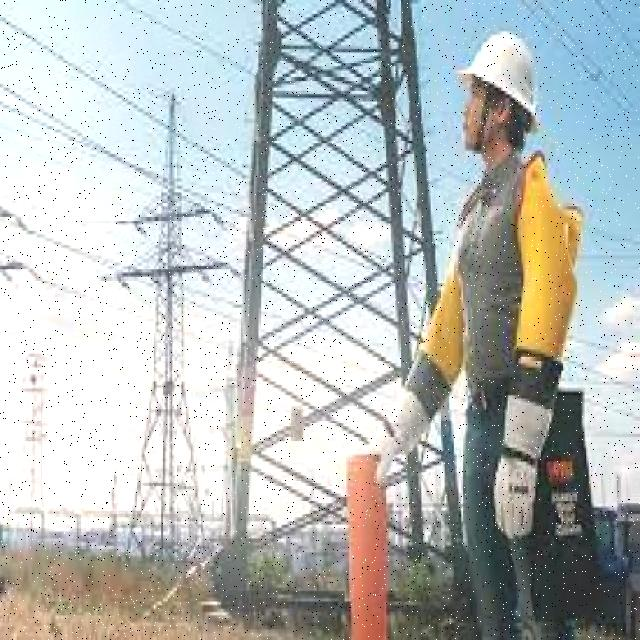Gloves: (493, 431, 541, 544), (367, 408, 422, 482)
Helmet: (458, 31, 550, 120)
Mask: (430, 166, 592, 368)
